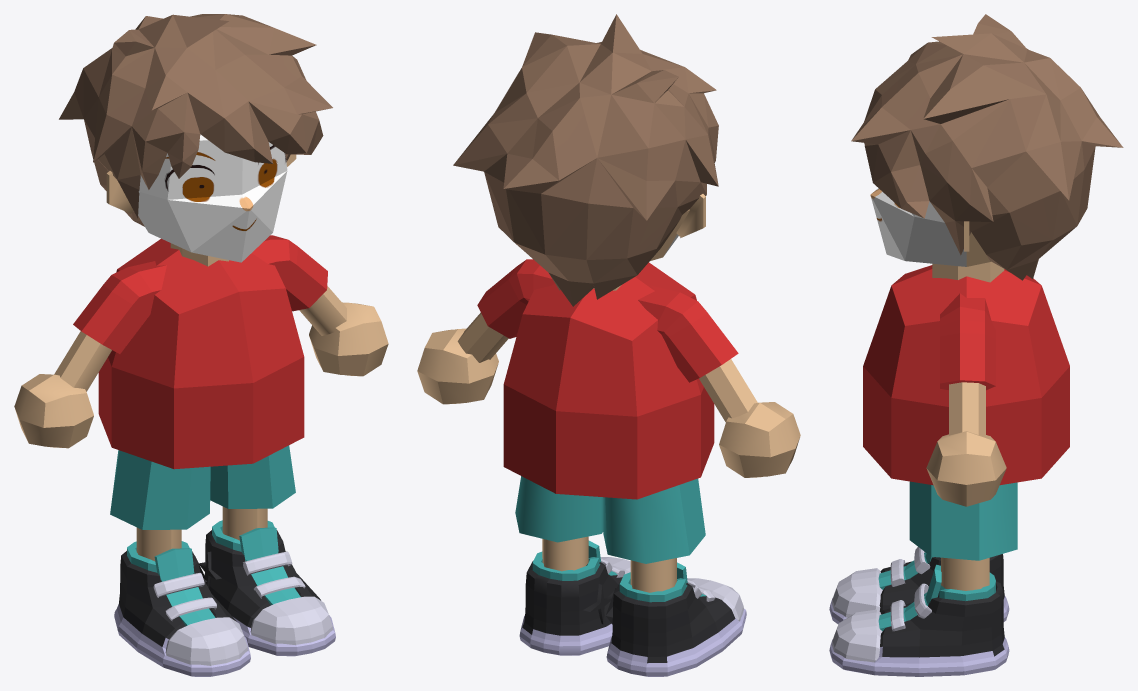
Rendered from Cabello_corto.glb.
3 views of the same model, side by side, from view 1: azimuth 30°, elevation 25°; view 2: azimuth 150°, elevation 25°; view 3: azimuth 270°, elevation 25° (orthographic). The views are drawn at different scales.
Visible parts, largest first — view 1: Torso_Boy, Hair, Shoes, Arms, Head_Boy, Pants; view 2: Hair, Torso_Boy, Arms, Shoes, Pants, Head_Boy; view 3: Hair, Torso_Boy, Shoes, Arms, Pants, Head_Boy, Neck.
Part boxes in pixels (x1,y1,x2,y2): Torso_Boy: [98, 238, 304, 469]; Hair: [59, 14, 332, 226]; Shoes: [114, 520, 335, 676]; Arms: [14, 235, 388, 448]; Head_Boy: [106, 134, 296, 262]; Pants: [110, 445, 295, 561]; Hair: [453, 14, 718, 306]; Torso_Boy: [503, 262, 714, 499]; Arms: [417, 259, 800, 477]; Shoes: [519, 540, 746, 676]; Pants: [515, 476, 705, 592]; Head_Boy: [650, 194, 705, 260]; Hair: [851, 14, 1123, 280]; Torso_Boy: [863, 265, 1069, 485]; Shoes: [829, 547, 1009, 676]; Arms: [926, 293, 1006, 506]; Pants: [909, 481, 1017, 590]; Head_Boy: [870, 188, 991, 266]; Neck: [932, 261, 1004, 282].
Size of the model in its own units: 3.41 by 5.41 by 2.38.
13 materials, 1 textured.
